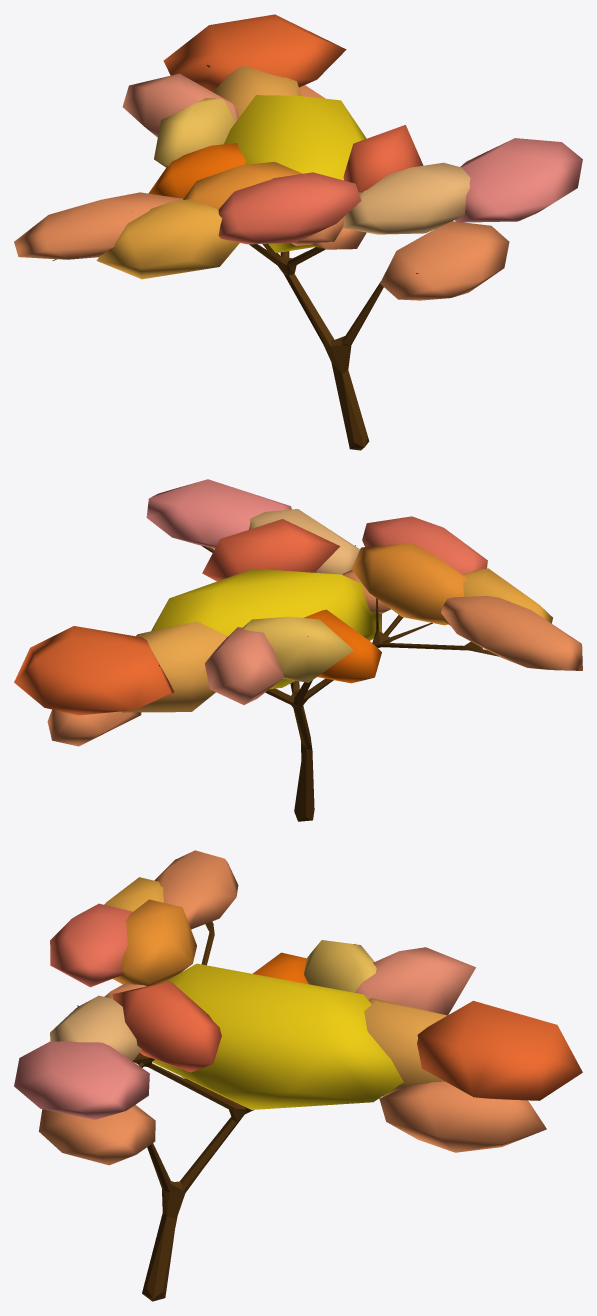
File: boom.glb
The picture shows the model from 3 angles, top to bottom: view 1: azimuth 30°, elevation 25°; view 2: azimuth 150°, elevation 25°; view 3: azimuth 270°, elevation 25°; orthographic projection. The views are drawn at different scales.
Visible parts, largest first — view 1: Icosphere.021, Icosphere.013, Icosphere.023, Icosphere.030, Icosphere.015, Icosphere.019, Icosphere.016, Icosphere.022, Cube.001, Icosphere.018, Icosphere.017, Icosphere.027 (+5 smaller); view 2: Icosphere.013, Icosphere.021, Icosphere.022, Icosphere.029, Icosphere.023, Icosphere.027, Icosphere.014, Icosphere.017, Icosphere.018, Cube.001, Icosphere.030, Icosphere.020 (+3 smaller); view 3: Icosphere.021, Icosphere.013, Icosphere.023, Icosphere.035, Icosphere.027, Icosphere.017, Cube.001, Icosphere.029, Icosphere.030, Icosphere.015, Icosphere.022, Icosphere.014 (+4 smaller).
Part boxes in pixels (<box>): Icosphere.021: <box>223,95,366,252</box>; Icosphere.013: <box>163,14,346,91</box>; Icosphere.023: <box>455,138,582,222</box>; Icosphere.030: <box>218,172,361,244</box>; Icosphere.015: <box>380,221,509,300</box>; Icosphere.019: <box>96,199,239,279</box>; Icosphere.016: <box>343,162,470,234</box>; Icosphere.022: <box>14,192,182,259</box>; Cube.001: <box>52,65,418,450</box>; Icosphere.018: <box>154,97,236,167</box>; Icosphere.017: <box>122,73,238,137</box>; Icosphere.027: <box>343,125,423,192</box>; Icosphere.013: <box>14,626,174,715</box>; Icosphere.021: <box>151,569,382,689</box>; Icosphere.022: <box>441,596,582,670</box>; Icosphere.029: <box>351,543,467,625</box>; Icosphere.023: <box>146,479,291,549</box>; Icosphere.027: <box>202,519,340,581</box>; Icosphere.014: <box>121,621,227,712</box>; Icosphere.017: <box>205,627,284,704</box>; Icosphere.018: <box>242,616,353,682</box>; Cube.001: <box>158,545,508,821</box>; Icosphere.030: <box>362,516,487,574</box>; Icosphere.020: <box>303,609,381,683</box>; Icosphere.021: <box>152,963,403,1109</box>; Icosphere.013: <box>417,1000,582,1100</box>; Icosphere.023: <box>14,1041,149,1119</box>; Icosphere.035: <box>379,1081,546,1152</box>; Icosphere.027: <box>112,981,221,1072</box>; Icosphere.017: <box>354,947,475,1015</box>; Cube.001: <box>77,921,355,1301</box>; Icosphere.029: <box>113,899,196,986</box>; Icosphere.030: <box>50,903,132,987</box>; Icosphere.015: <box>39,1105,155,1165</box>; Icosphere.022: <box>154,850,238,929</box>; Icosphere.014: <box>364,998,447,1096</box>.
Size of the model in its own units: 11.3 by 6.64 by 10.33.
